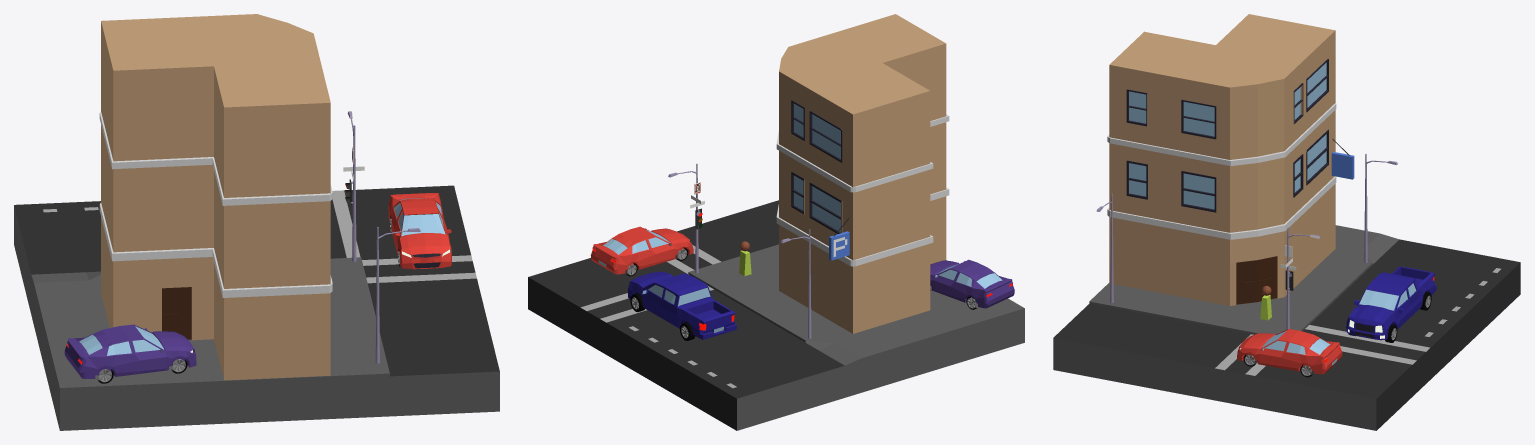
The model's file is TodayUSA2.glb.
3 renders of one model, left to right at view 1: azimuth 30°, elevation 25°; view 2: azimuth 150°, elevation 25°; view 3: azimuth 270°, elevation 25°, orthographic. The views are drawn at different scales.
Parts seen in each view (by area): view 1: Building, Base, Camry.001, Camry, Red Light, Streetlamp1; view 2: Building, Base, FordF150, Camry, Camry.001, Red Light, Parking Sign; view 3: Building, Base, FordF150, Camry, Red Light, Parking Sign.
Part boxes in pixels (box(x1,y1,x2,y2)): Building: box(99, 14, 332, 380); Base: box(14, 185, 499, 430); Camry.001: box(64, 324, 196, 383); Camry: box(388, 193, 451, 269); Red Light: box(343, 111, 364, 261); Streetlamp1: box(375, 227, 420, 363); Building: box(776, 14, 949, 333); Base: box(528, 200, 1024, 430); FordF150: box(627, 271, 736, 340); Camry: box(590, 226, 693, 276); Camry.001: box(930, 259, 1014, 309); Red Light: box(668, 163, 704, 273); Parking Sign: box(829, 218, 849, 260); Building: box(1107, 14, 1336, 305); Base: box(1053, 225, 1520, 430); FordF150: box(1346, 266, 1436, 342); Camry: box(1237, 329, 1342, 377); Red Light: box(1280, 227, 1320, 329); Parking Sign: box(1331, 139, 1354, 179).
Size of the model in its own units: 7.92 by 4.72 by 7.92.
